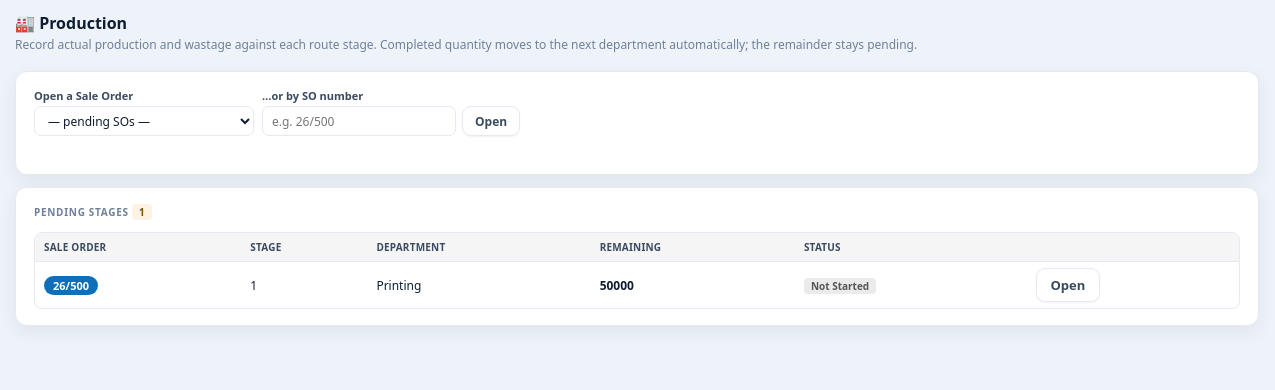
it: Production page › hides the Ready-to-Plan control from MIS (records actuals only)
The width and height of the screenshot is (1275, 390).
Select "26/500" in the dropdown at (144, 121), box [34,106,254,136]
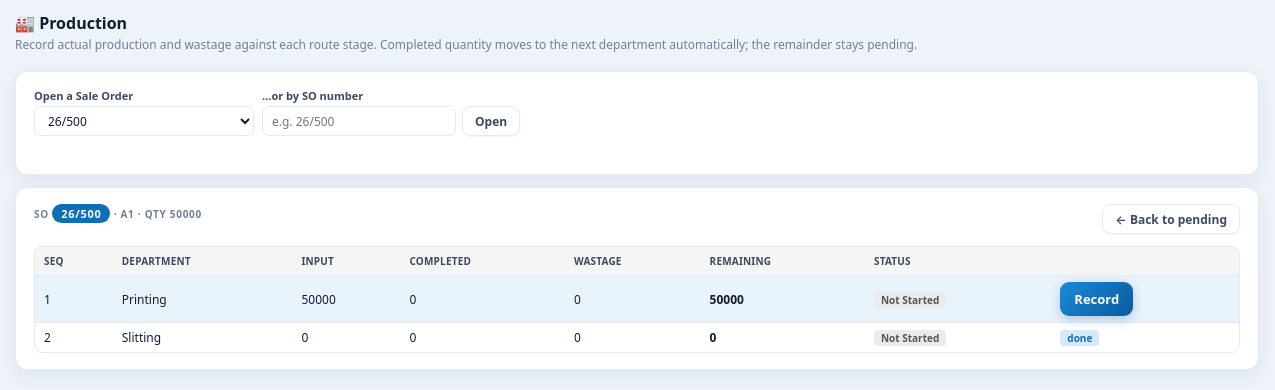
Check: the text "Printing" is shown, box [113,276,292,322]
Check: the button "Record" is shown, box [1060,282,1133,316]
